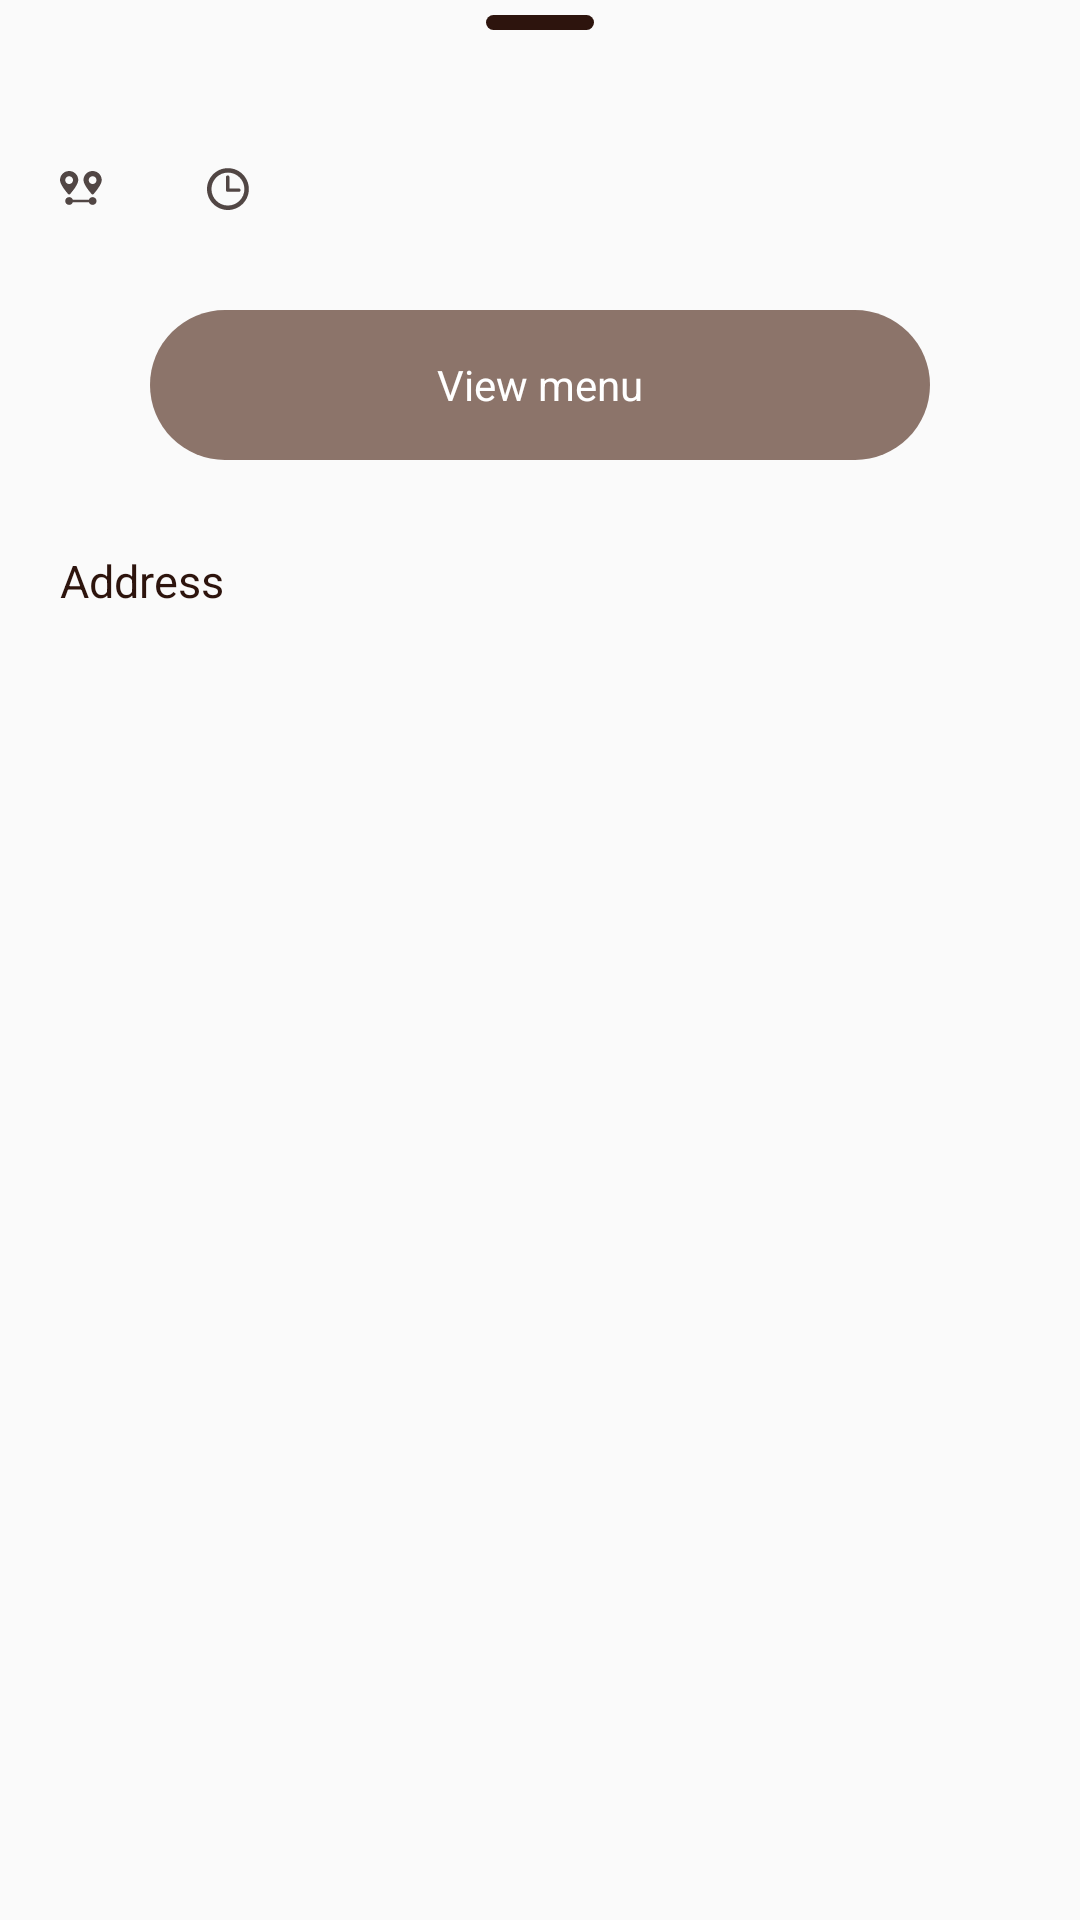

Screen size 1080 × 1920. Icon name, then its box in pixels as (x1, y1, x2, y2):
distance: (60, 171, 102, 205)
time: (207, 168, 249, 210)
